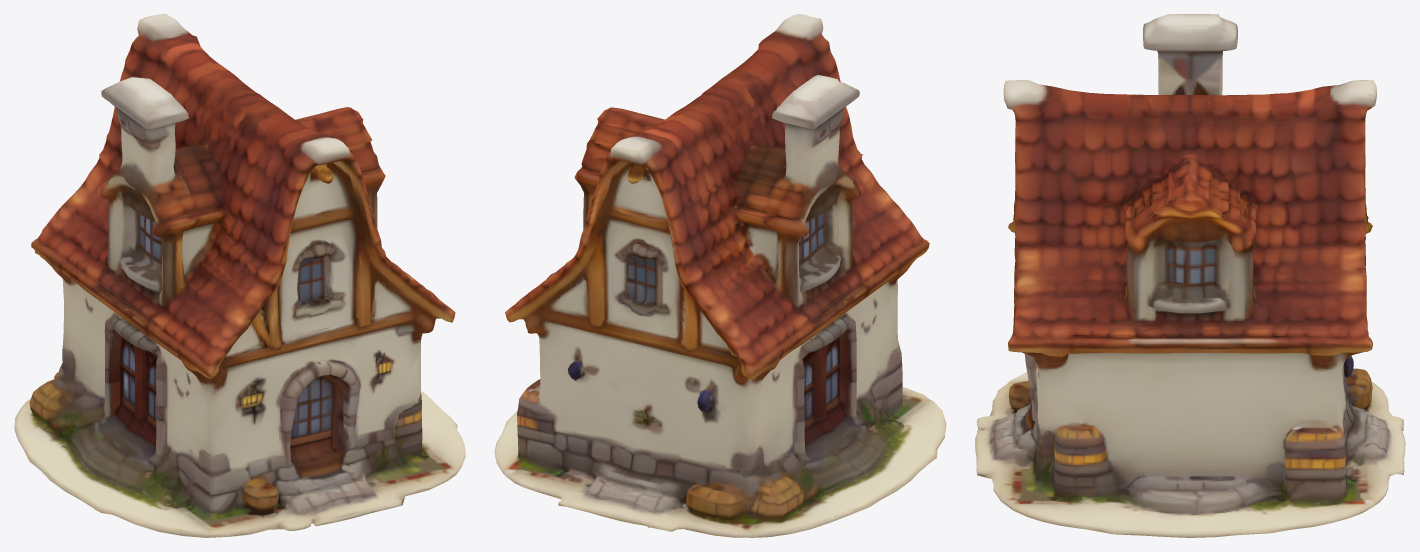
The model's file is base_basic_shaded.fbx.
The picture shows the model from 3 angles, left to right: view 1: azimuth 30°, elevation 25°; view 2: azimuth 150°, elevation 25°; view 3: azimuth 270°, elevation 25°; orthographic projection.
Visible parts, largest first — view 1: model; view 2: model; view 3: model.
Part boxes in pixels (box(x1,y1,x2,y2)): model: box(14, 14, 465, 537); model: box(494, 14, 946, 537); model: box(975, 14, 1405, 537).
Size of the model in its own units: 189 by 185 by 189.
